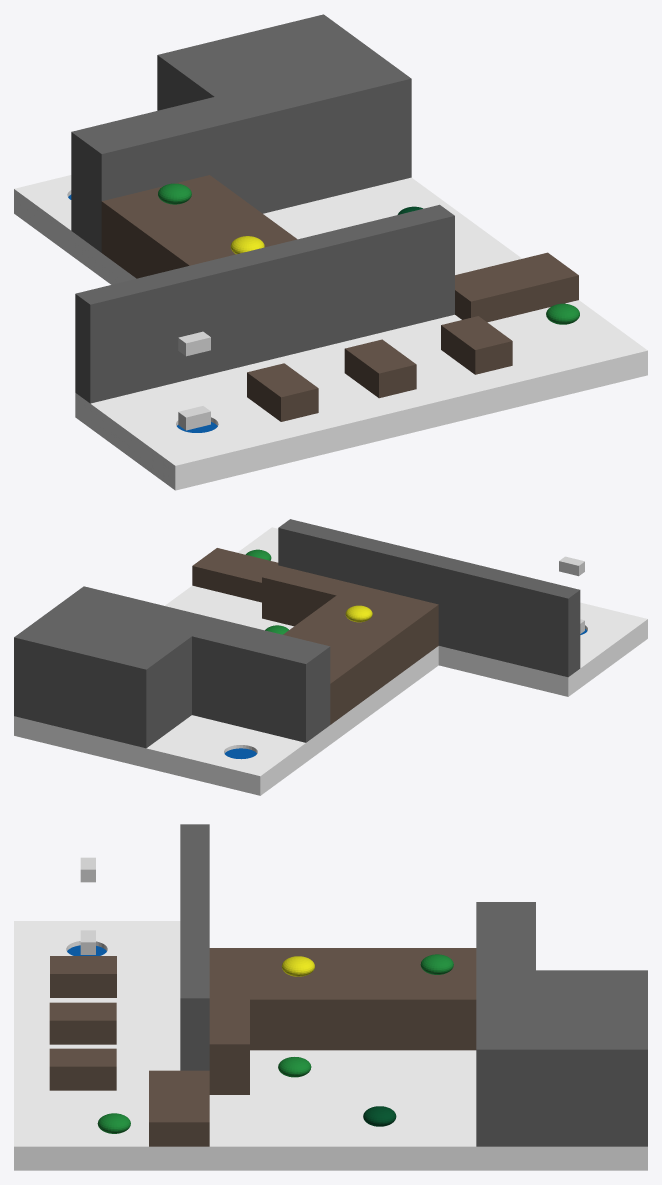
Rendered from level1.fbx.
The picture shows the model from 3 angles, top to bottom: view 1: azimuth 30°, elevation 25°; view 2: azimuth 150°, elevation 25°; view 3: azimuth 270°, elevation 25°; orthographic projection. The views are drawn at different scales.
Visible parts, largest first — view 1: 墙, 墙.001, 冰面.001, 冰面, 障碍物.004, 障碍物.003, 障碍物.001, 障碍物, 障碍物.002; view 2: 墙, 墙.001, 冰面, 障碍物.004, 冰面.001, 障碍物.003, 初始最大高度; view 3: 墙, 冰面, 冰面.001, 障碍物.004, 墙.001, 障碍物.003, 障碍物.001, 障碍物.002, 障碍物, 帐篷, 床.001, 床 (+2 smaller).
Boxes of the visible parts, x1,y1,x2,y2 form: 墙: (71,14,411,252); 墙.001: (75,204,454,403); 冰面.001: (75,300,647,490); 冰面: (14,175,522,284); 障碍物.004: (101,175,297,278); 障碍物.003: (455,252,578,322); 障碍物.001: (344,339,416,398); 障碍物: (247,363,318,421); 障碍物.002: (441,316,512,374); 墙: (14,586,330,748); 墙.001: (278,519,580,677); 冰面: (14,585,438,795); 障碍物.004: (262,565,438,724); 冰面.001: (237,527,647,696); 障碍物.003: (192,548,278,602); 初始最大高度: (559,556,584,576); 墙: (476,902,647,1146); 冰面: (209,1050,647,1170); 冰面.001: (14,921,209,1170); 障碍物.004: (209,948,476,1094); 墙.001: (180,824,209,1070); 障碍物.003: (149,1070,209,1146); 障碍物.001: (49,1002,116,1044); 障碍物.002: (49,1048,116,1090); 障碍物: (50,956,116,997); 帐篷: (363,1106,396,1126); 床.001: (278,1057,311,1077); 床: (420,954,453,974).
Bounding box in the file's own units: 2000 × 500 × 2377.
